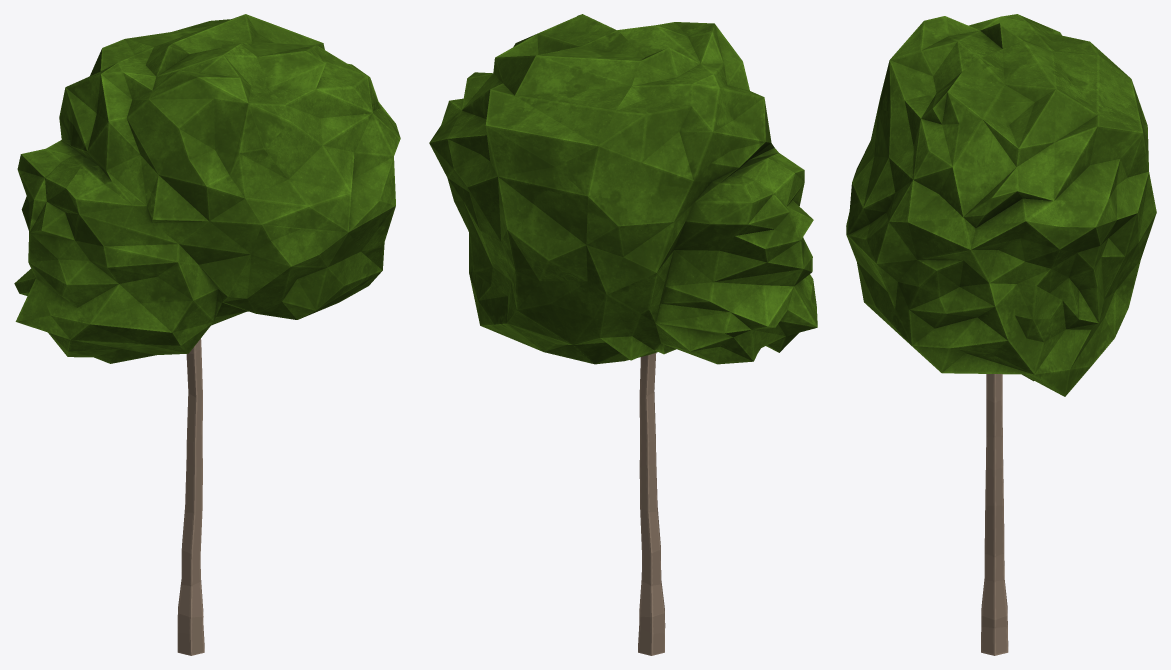
Rendered from bcf2cbe9-fad2-464f-88e3-0d47d6451645.glb.
3 renders of one model, left to right at view 1: azimuth 30°, elevation 25°; view 2: azimuth 150°, elevation 25°; view 3: azimuth 270°, elevation 25°, orthographic.
Visible parts, largest first — view 1: BrazilNutTree_mesh; view 2: BrazilNutTree_mesh; view 3: BrazilNutTree_mesh.
Boxes of the visible parts, x1=… form: BrazilNutTree_mesh: x1=14, y1=14, x2=400, y2=655; BrazilNutTree_mesh: x1=429, y1=14, x2=817, y2=655; BrazilNutTree_mesh: x1=846, y1=14, x2=1156, y2=655.
Bounding box in the file's own units: 8.95 × 14.25 × 6.51.
1 material, 1 textured.
